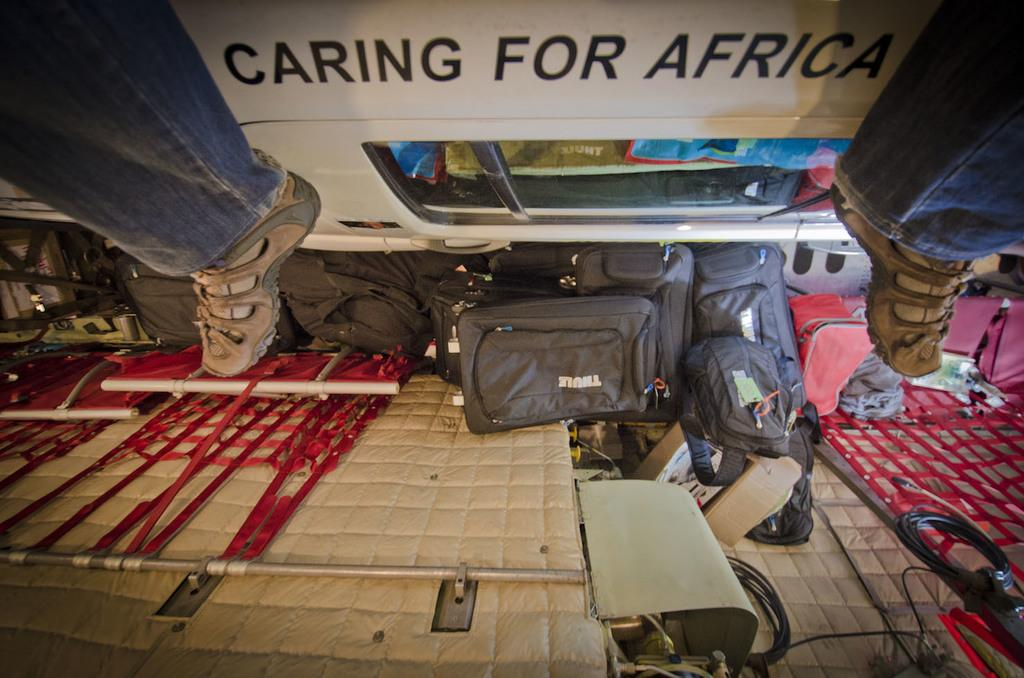Luggage-and-bags: (114, 243, 819, 543), (679, 317, 811, 489)
